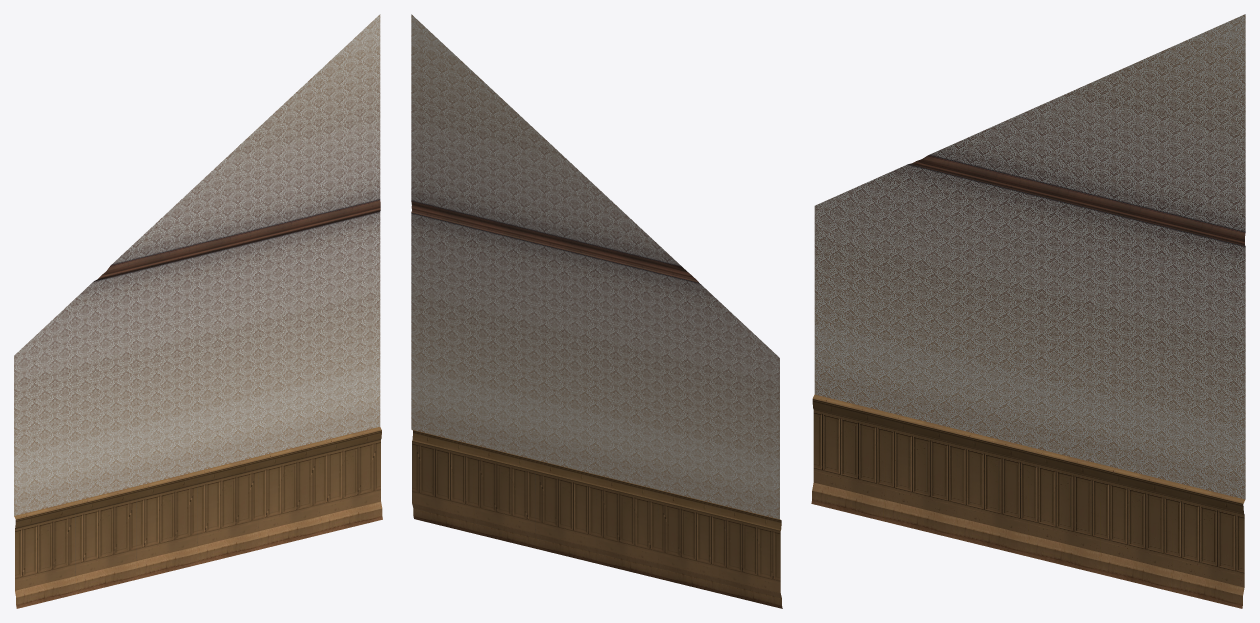
File: 13m_wall_stairs_blend.fbx
3 renders of one model, left to right at view 1: azimuth 30°, elevation 25°; view 2: azimuth 150°, elevation 25°; view 3: azimuth 330°, elevation 25°, orthographic. The views are drawn at different scales.
Parts seen in each view (by area): view 1: wall_13m3; view 2: wall_13m3; view 3: wall_13m3.
Boxes of the visible parts, x1,y1,x2,y2 form: wall_13m3: (14, 14, 382, 608); wall_13m3: (411, 14, 782, 608); wall_13m3: (811, 14, 1245, 608).
Bounding box in the file's own units: 600 × 788 × 7.64.
1 material, 1 textured.
